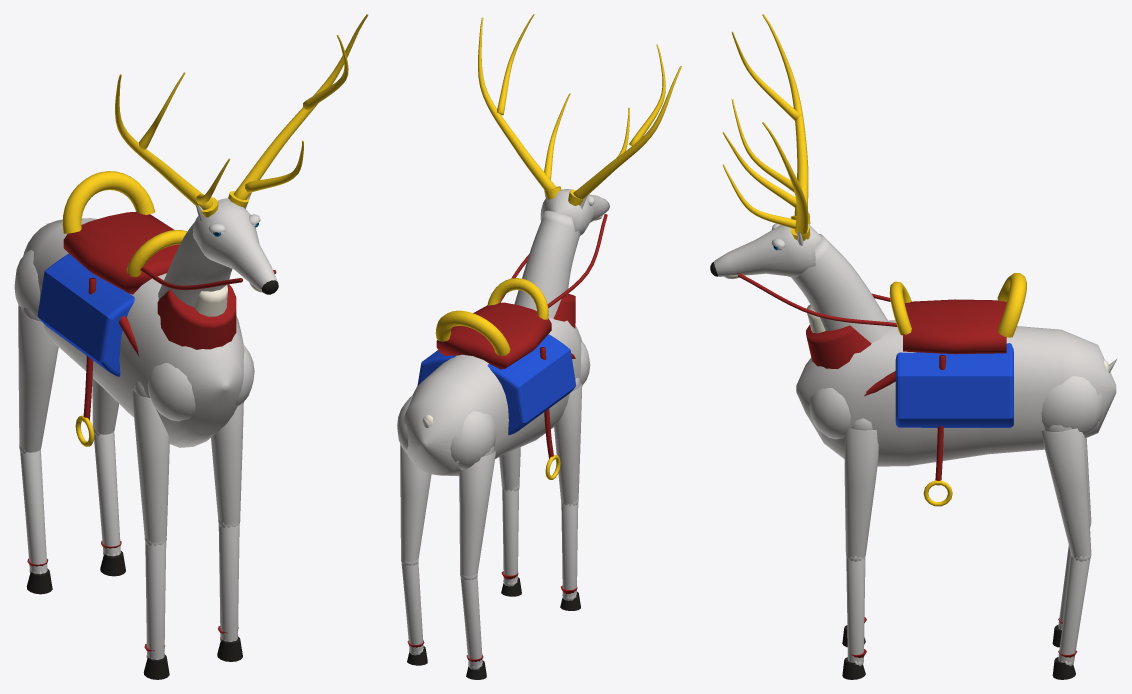
File: royal_stag.glb
The picture shows the model from 3 angles, left to right: view 1: azimuth 30°, elevation 25°; view 2: azimuth 150°, elevation 25°; view 3: azimuth 270°, elevation 25°; orthographic projection. The views are drawn at different scales.
Visible parts, largest first — view 1: mount_body, mount_saddle_pad, mount_saddle, mount_upper_leg_br, mount_upper_leg_fr, stag_head, stag_chest_ruff, mount_upper_leg_fl, mount_neck, mount_saddle_cantle, mount_cannon_br, mount_cannon_bl (+14 smaller); view 2: mount_body, mount_saddle_pad, mount_saddle, mount_neck, mount_upper_leg_br, mount_upper_leg_bl, mount_upper_leg_fr, mount_haunch_-1, mount_saddle_cantle, mount_cannon_fl, mount_cannon_fr, antler_beam_1 (+11 smaller); view 3: mount_body, mount_saddle_pad, mount_saddle, mount_neck, mount_upper_leg_bl, mount_upper_leg_fl, stag_head, mount_haunch_1, stag_chest_ruff, mount_cannon_bl, mount_cannon_fl, mount_pectoral_1 (+7 smaller).
Boxes of the visible parts, <box> form: mount_body: <box>23,218,244,447</box>; mount_saddle_pad: <box>37,253,134,376</box>; mount_saddle: <box>63,212,179,294</box>; mount_upper_leg_br: <box>18,305,58,452</box>; mount_upper_leg_fr: <box>132,389,169,542</box>; stag_head: <box>192,198,277,292</box>; stag_chest_ruff: <box>157,284,236,349</box>; mount_upper_leg_fl: <box>211,402,243,524</box>; mount_neck: <box>158,222,232,306</box>; mount_saddle_cantle: <box>62,171,155,233</box>; mount_cannon_br: <box>20,449,47,573</box>; mount_cannon_bl: <box>94,431,120,556</box>; mount_body: <box>403,318,582,476</box>; mount_saddle_pad: <box>417,334,576,434</box>; mount_saddle: <box>436,302,551,369</box>; mount_neck: <box>514,210,580,318</box>; mount_upper_leg_br: <box>459,449,496,576</box>; mount_upper_leg_bl: <box>400,444,431,562</box>; mount_upper_leg_fr: <box>554,382,582,503</box>; mount_haunch_-1: <box>450,411,496,470</box>; mount_saddle_cantle: <box>435,310,510,356</box>; mount_cannon_fl: <box>502,487,519,583</box>; mount_cannon_fr: <box>561,502,578,597</box>; antler_beam_1: <box>478,17,556,190</box>; mount_body: <box>796,320,1116,466</box>; mount_saddle_pad: <box>895,343,1013,427</box>; mount_saddle: <box>903,299,1006,354</box>; mount_neck: <box>790,234,890,343</box>; mount_upper_leg_bl: <box>1041,428,1091,558</box>; mount_upper_leg_fl: <box>844,427,878,558</box>; stag_head: <box>714,224,821,276</box>; mount_haunch_1: <box>1041,376,1103,435</box>; stag_chest_ruff: <box>806,325,871,369</box>; mount_cannon_bl: <box>1058,556,1090,663</box>; mount_cannon_fl: <box>846,557,865,662</box>; mount_pectoral_1: <box>809,388,850,439</box>.
Size of the model in its own units: 0.8459 by 2.15 by 1.34.
